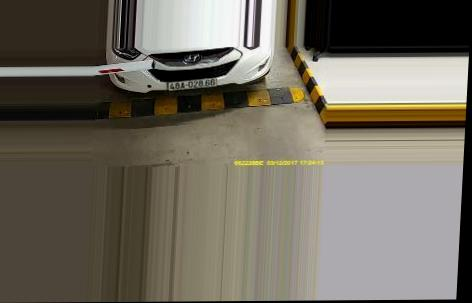License_Plate: (166, 76, 217, 92)
